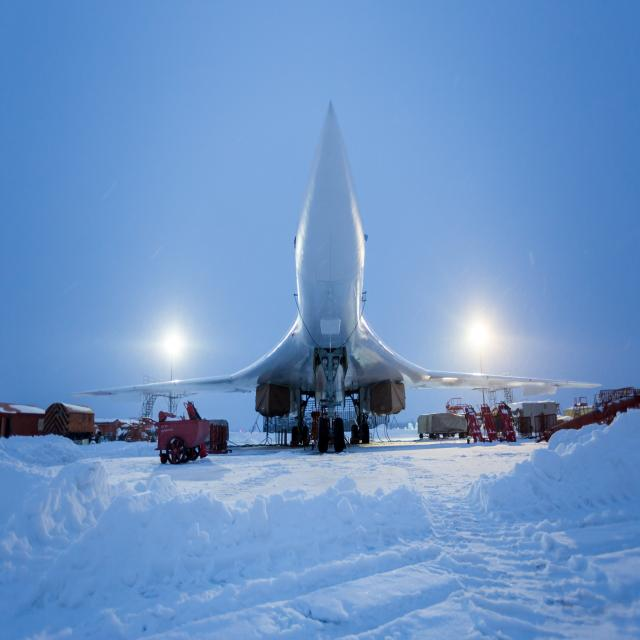MIL_Plane: (68, 99, 602, 453)
